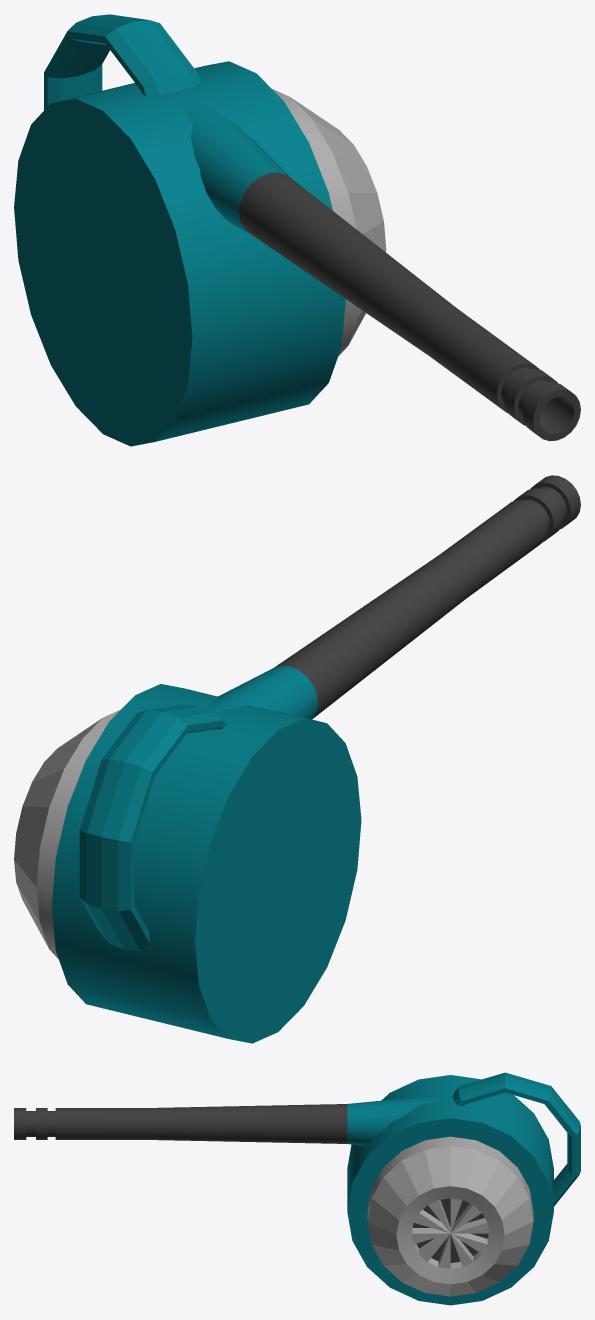
Rendered from wind.fbx.
3 views of the same model, one above another, from view 1: azimuth 30°, elevation 25°; view 2: azimuth 150°, elevation 25°; view 3: azimuth 270°, elevation 25° (orthographic). The views are drawn at different scales.
Parts seen in each view (by area): view 1: pCylinder15, pCylinder16, pTorus3; view 2: pCylinder15, pCylinder16, pTorus3; view 3: pCylinder15, pCylinder16, pTorus3.
Boxes of the visible parts, bbox=[...] form: pCylinder15: bbox=[14, 61, 386, 446]; pCylinder16: bbox=[180, 92, 580, 441]; pTorus3: bbox=[44, 14, 200, 110]; pCylinder15: bbox=[14, 684, 361, 1043]; pCylinder16: bbox=[208, 475, 580, 719]; pTorus3: bbox=[79, 705, 225, 951]; pCylinder15: bbox=[347, 1075, 553, 1305]; pCylinder16: bbox=[14, 1096, 449, 1145]; pTorus3: bbox=[453, 1072, 580, 1206].
Bounding box in the file's own units: 0.3861 × 0.5606 × 1.39.
